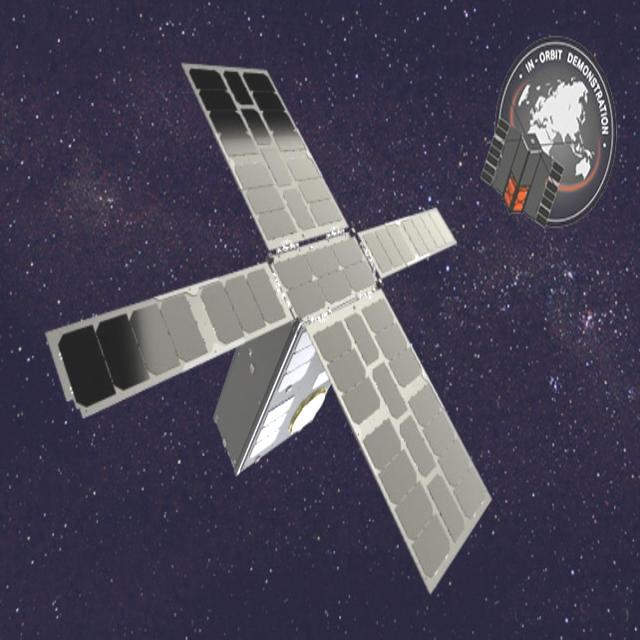satellite: (50, 54, 498, 610)
